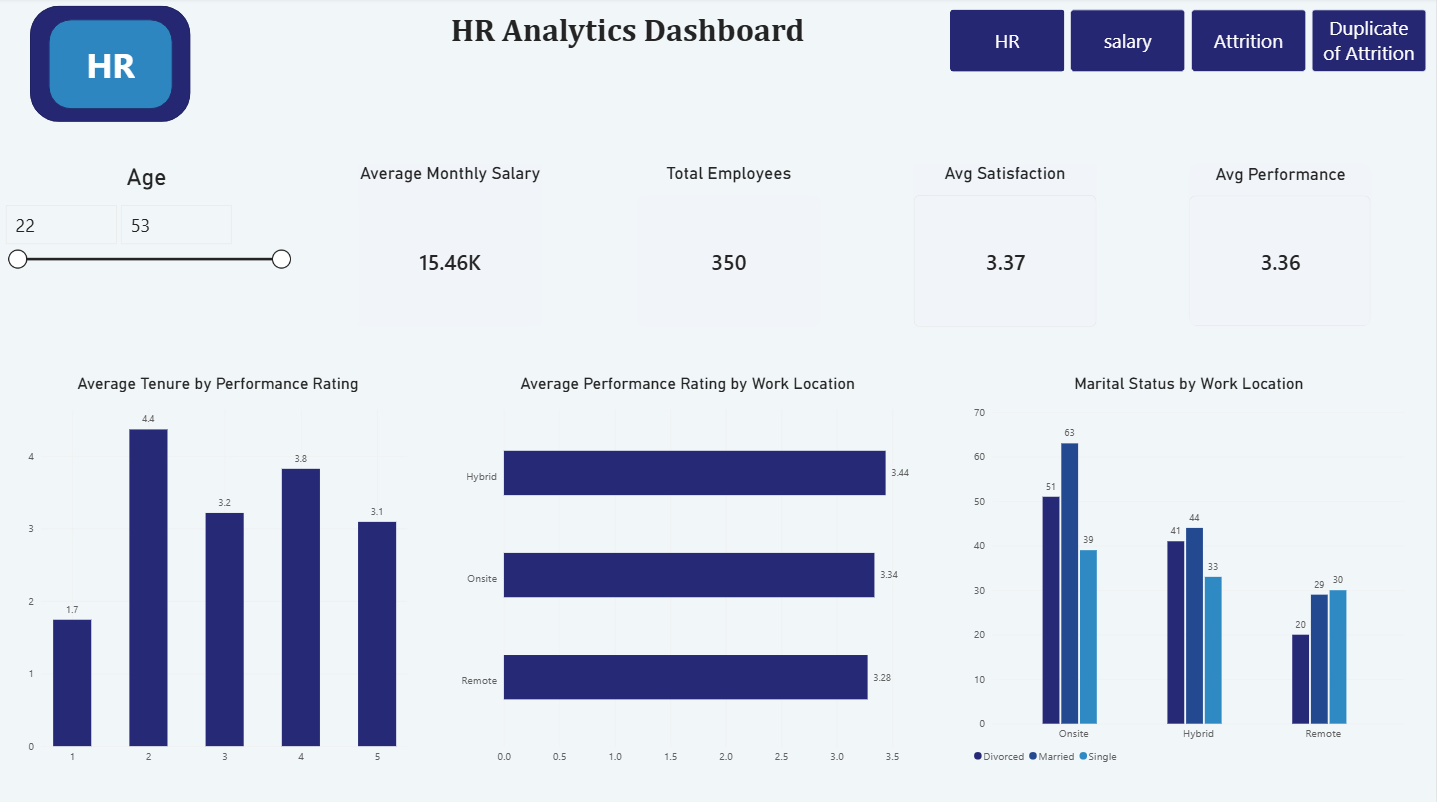

Layout of this report page (visuals, bound fields, positions):
{"tool":"powerbi","page":{"name":"HR","canvas":[1920,1080],"ordinal":0},"visuals":[{"type":"shape","box":[40.8,12.2,214.3,155.1],"z":0,"group":"g1"},{"type":"cardVisual","title":"Average Monthly Salary","fields":{"Data":["Avg(HR_Data.MonthlySalary)"]},"box":[479.6,222.4,244.3,218.6],"z":0},{"type":"shape","box":[65.3,29.9,165.3,119.7],"z":1000,"group":"g1"},{"type":"cardVisual","title":"Total Employees","fields":{"Data":["HR_Data.Total Employees"]},"box":[851,222.4,244,219],"z":1000},{"type":"cardVisual","title":"Avg Satisfaction","fields":{"Data":["HR_Data.Avg Satisfaction"]},"box":[1220.4,222.4,244,219],"z":2000},{"type":"cardVisual","title":"Avg Performance","fields":{"Data":["HR_Data.Avg Performance"]},"box":[1587.8,222.4,244,219],"z":3000},{"type":"clusteredColumnChart","title":"Average Tenure by Performance Rating","fields":{"Category":["HR_Data.PerformanceRating"],"Y":["Avg(HR_Data.YearsAtCompany)"]},"box":[22.4,489.8,538.8,555.1],"z":4000},{"type":"textbox","box":[361.2,0,955.1,112.2],"z":5000},{"type":"clusteredBarChart","title":"Average Performance Rating by Work Location","fields":{"Category":["HR_Data.WorkLocation"],"Y":["Avg(HR_Data.PerformanceRating)"]},"box":[595.9,489.8,644.9,555.1],"z":6000},{"type":"clusteredColumnChart","title":"Marital Status by Work Location","fields":{"Category":["HR_Data.WorkLocation"],"Series":["HR_Data.MaritalStatus"],"Y":["CountNonNull(HR_Data.EmployeeID)"]},"box":[1283.7,489.8,608.2,555.1],"z":7000},{"type":"pageNavigator","box":[1269.4,16.3,636.7,83.7],"z":8000},{"type":"group","id":"g1","title":"Group 1","box":[40.8,12.2,214.3,155.1],"z":9000},{"type":"slicer","title":"Age","fields":{"Values":["HR_Data.Age"]},"box":[0,222.4,391.8,230.6],"z":10000}]}

Visuals, with their boxes in screenshot pixels (x1, y1, x2, y2), scaled from the page's 1920x1080 canvas onto the 1437x802 screenshot:
shape: 31, 9, 191, 124
"Average Monthly Salary" cardVisual: 359, 165, 542, 327
shape: 49, 22, 173, 111
"Total Employees" cardVisual: 637, 165, 820, 328
"Avg Satisfaction" cardVisual: 913, 165, 1096, 328
"Avg Performance" cardVisual: 1188, 165, 1371, 328
"Average Tenure by Performance Rating" clusteredColumnChart: 17, 364, 420, 776
textbox: 270, 0, 985, 83
"Average Performance Rating by Work Location" clusteredBarChart: 446, 364, 929, 776
"Marital Status by Work Location" clusteredColumnChart: 961, 364, 1416, 776
pageNavigator: 950, 12, 1427, 74
"Group 1" group: 31, 9, 191, 124
"Age" slicer: 0, 165, 293, 336
